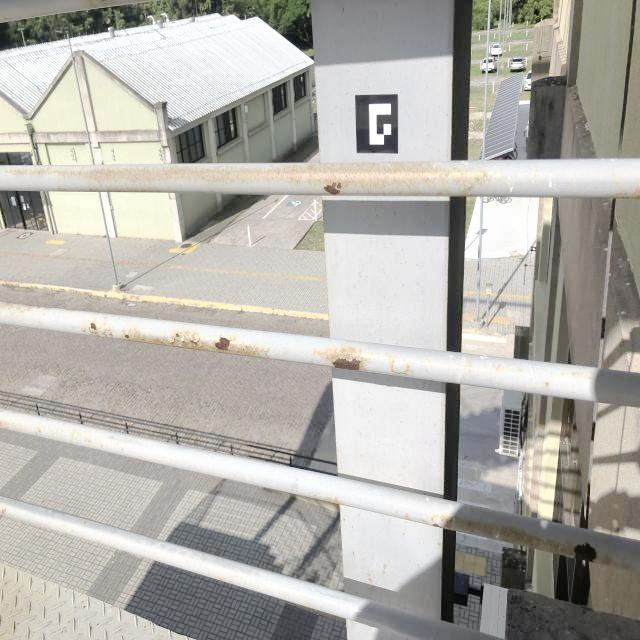Corrosion: (2, 166, 497, 196), (439, 512, 614, 567), (120, 328, 269, 357), (318, 347, 367, 370), (574, 543, 597, 562), (0, 302, 54, 310), (391, 360, 409, 375), (324, 182, 340, 195), (90, 323, 98, 334), (102, 327, 110, 336), (432, 523, 442, 528), (2, 508, 7, 514), (337, 182, 341, 189), (109, 332, 113, 337), (82, 327, 86, 331), (431, 517, 434, 522)
